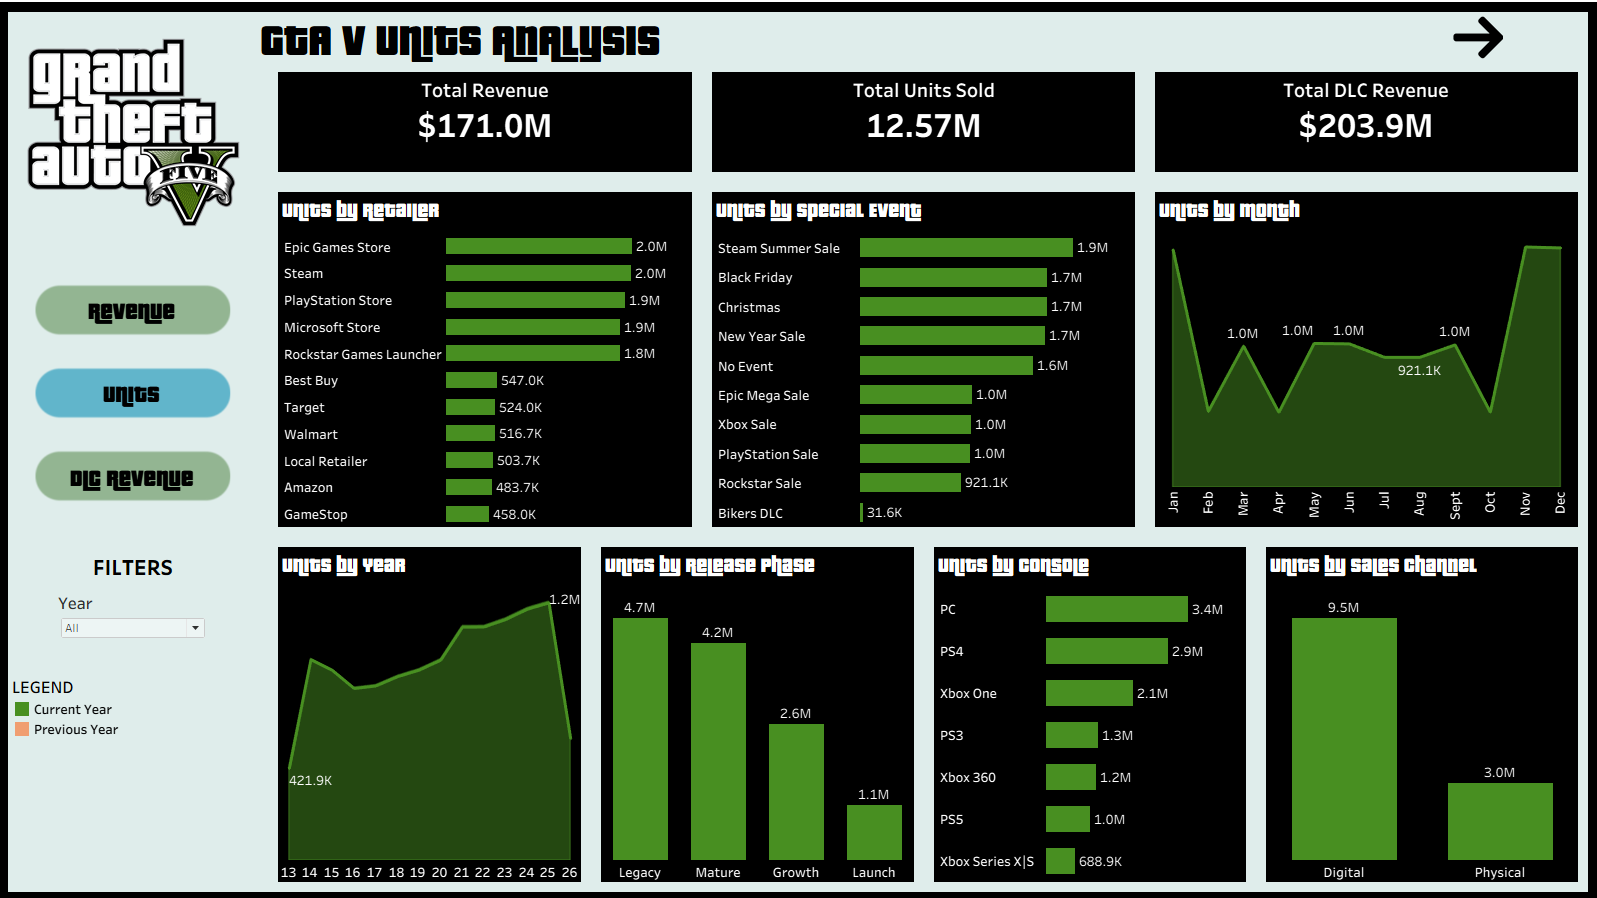

What the dashboard file says about the page in this screenshot:
{"tool":"tableau","page":{"name":"1","canvas":[1600,900],"ordinal":0},"visuals":[{"type":"blank","box":[10,10,250,20]},{"type":"text","box":[260,10,1130,50]},{"type":"dashboard-object","box":[1390,10,180,50]},{"type":"image","param":"Image/gta-v-logo-huge-transback1.png","box":[10,30,250,200]},{"type":"worksheet","title":"Revenue","mark":"Automatic","box":[280,70,414,100]},{"type":"worksheet","title":"Units Sold","mark":"Automatic","box":[714,70,423,100]},{"type":"worksheet","title":"DLC Revenue","mark":"Automatic","box":[1157,70,423,100]},{"type":"worksheet","title":"Retailer","mark":"Automatic","rows":["retailer"],"cols":["Calculation_1156724211879937","Metric YoY (copy)_1199605215707158"],"box":[280,190,414,335]},{"type":"worksheet","title":"Special Event","mark":"Bar","rows":["special_event"],"cols":["Calculation_1156724211879937","Metric YoY (copy)_1199605215707158"],"box":[714,190,423,335]},{"type":"worksheet","title":"Month","mark":"Automatic","rows":["Calculation_1156724211879937","Calculation_1156724211879937"],"cols":["Date"],"box":[1157,190,423,335]},{"type":"blank","box":[10,230,250,50]},{"type":"worksheet","title":"Buttons","mark":"Shape","rows":["Calculation_0579481005690900","Calculation_0579481005690900","Calculation_0579481005690900"],"box":[10,280,250,250]},{"type":"blank","box":[10,530,250,20]},{"type":"worksheet","title":"Year","mark":"Automatic","rows":["Calculation_1199605217181720","Calculation_1199605217181720"],"cols":["Date"],"box":[280,545,303,335]},{"type":"worksheet","title":"Release Phase","mark":"Automatic","rows":["Calculation_1199605217181720"],"cols":["release_phase"],"box":[603,545,313,335]},{"type":"worksheet","title":"Console","mark":"Automatic","rows":["platform"],"cols":["Calculation_1156724211879937","Metric YoY (copy)_1199605215707158"],"box":[936,545,312,335]},{"type":"worksheet","title":"Sales Channel","mark":"Automatic","rows":["Calculation_1156724211879937","Metric YoY (copy)_1199605215707158"],"cols":["sales_channel"],"box":[1268,545,312,335]},{"type":"text","box":[10,550,250,30]},{"type":"blank","box":[10,580,250,10]},{"type":"parameter","param":"[Parameters].[Parameter 1199605212127239]","box":[60,590,150,50]},{"type":"blank","box":[10,640,250,30]},{"type":"legend","title":"Console","param":"[federated.11s83u20dlavxa1726apb0tvfoed].[:Measure Names]","box":[10,670,250,71]}]}

Visuals, with their boxes in screenshot pixels (x1, y1, x2, y2), scaled from the page's 1600x900 canvas onto the 1597x898 screenshot:
blank: (left=10, top=10, right=260, bottom=30)
text: (left=260, top=10, right=1387, bottom=60)
dashboard-object: (left=1387, top=10, right=1567, bottom=60)
image: (left=10, top=30, right=260, bottom=229)
"Revenue" worksheet: (left=279, top=70, right=693, bottom=170)
"Units Sold" worksheet: (left=713, top=70, right=1135, bottom=170)
"DLC Revenue" worksheet: (left=1155, top=70, right=1577, bottom=170)
"Retailer" worksheet: (left=279, top=190, right=693, bottom=524)
"Special Event" worksheet (Bar marks): (left=713, top=190, right=1135, bottom=524)
"Month" worksheet: (left=1155, top=190, right=1577, bottom=524)
blank: (left=10, top=229, right=260, bottom=279)
"Buttons" worksheet (Shape marks): (left=10, top=279, right=260, bottom=529)
blank: (left=10, top=529, right=260, bottom=549)
"Year" worksheet: (left=279, top=544, right=582, bottom=878)
"Release Phase" worksheet: (left=602, top=544, right=914, bottom=878)
"Console" worksheet: (left=934, top=544, right=1246, bottom=878)
"Sales Channel" worksheet: (left=1266, top=544, right=1577, bottom=878)
text: (left=10, top=549, right=260, bottom=579)
blank: (left=10, top=579, right=260, bottom=589)
parameter: (left=60, top=589, right=210, bottom=639)
blank: (left=10, top=639, right=260, bottom=669)
"Console" legend: (left=10, top=669, right=260, bottom=739)
